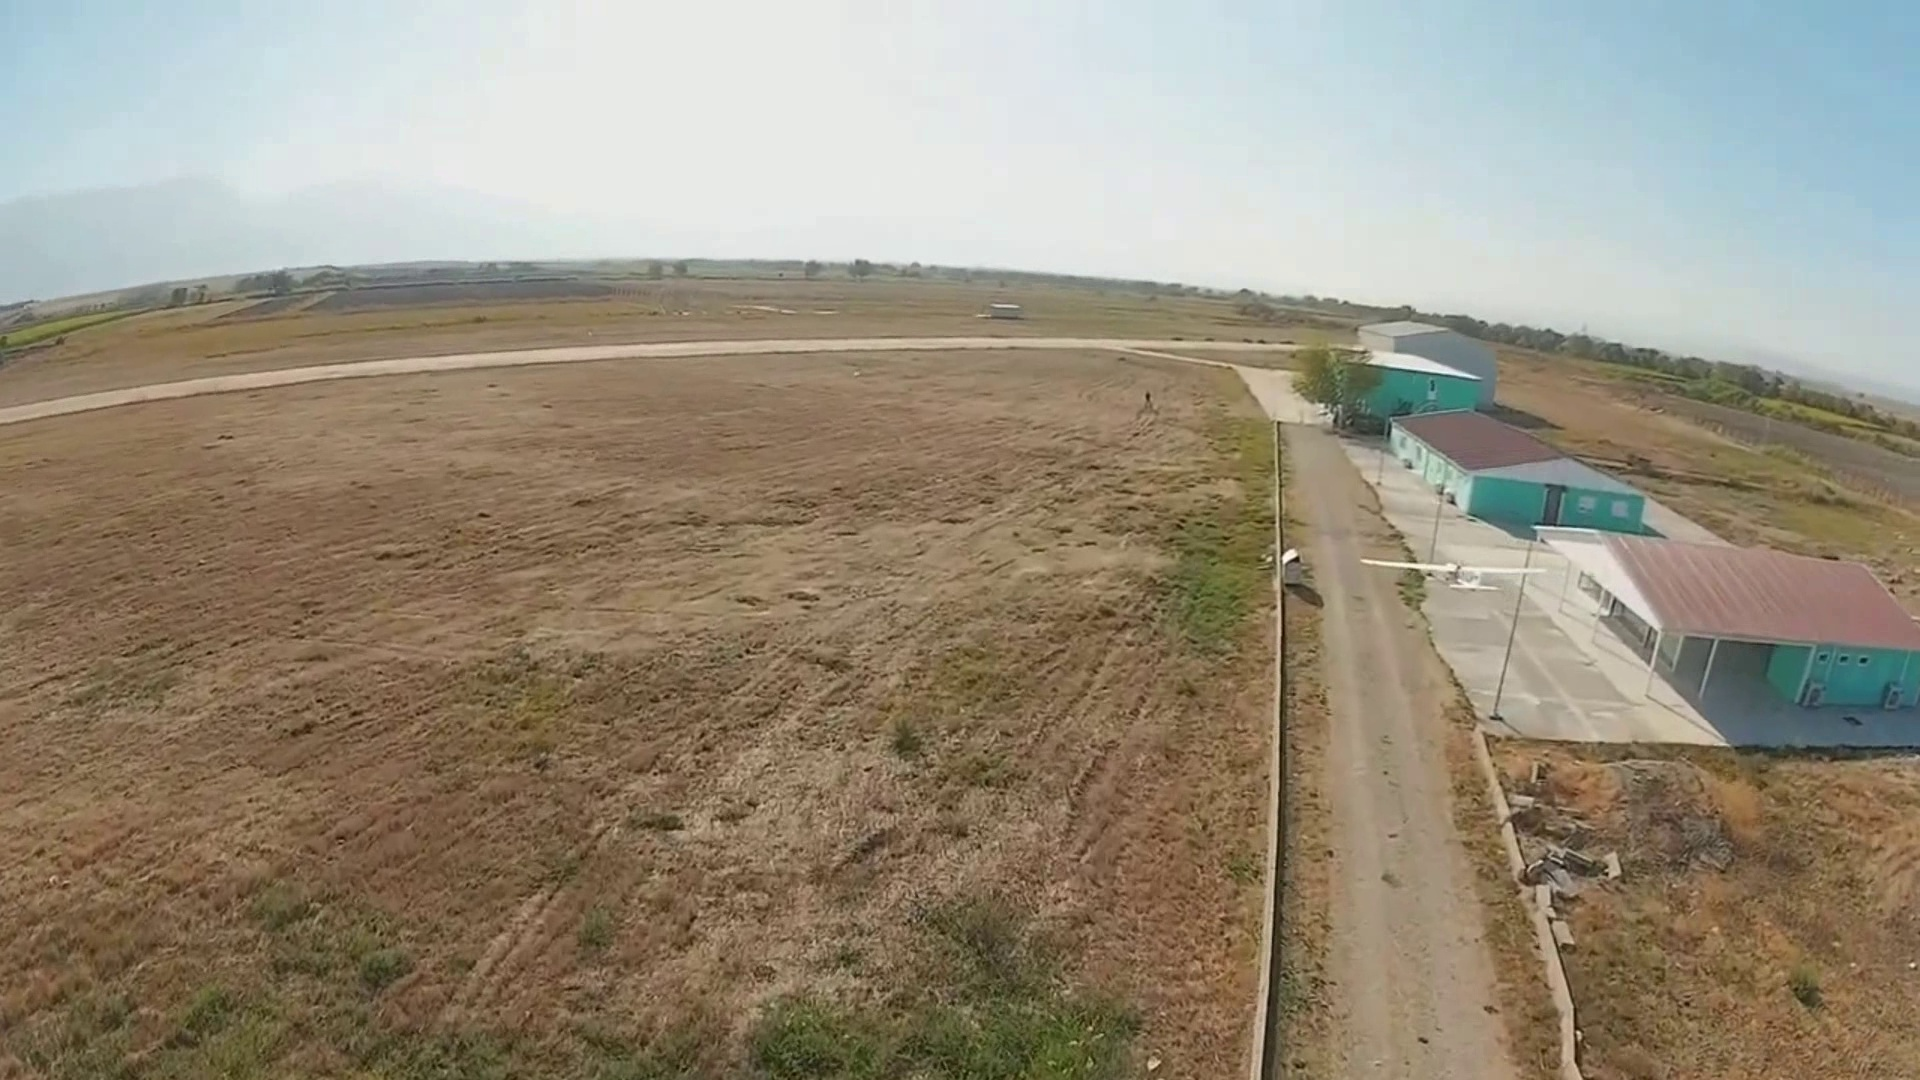airplane: (1383, 411, 1919, 752)
